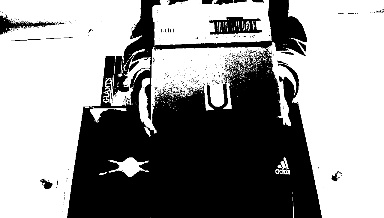U: (203, 82, 231, 109)
